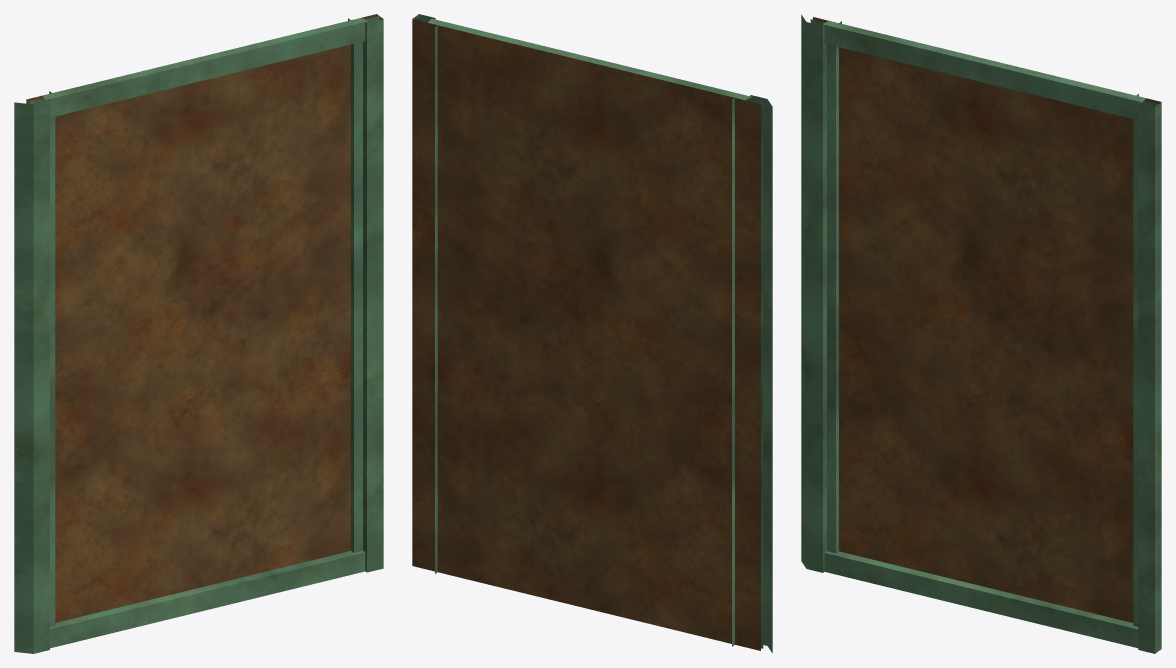
File: Wall1_UpperDeck_Corner1.FBX
3 views of the same model, side by side, from view 1: azimuth 30°, elevation 25°; view 2: azimuth 150°, elevation 25°; view 3: azimuth 330°, elevation 25° (orthographic).
Parts seen in each view (by area): view 1: Object017; view 2: Object017; view 3: Object017.
Boxes of the visible parts, x1,y1,x2,y2 form: Object017: (14, 14, 383, 653); Object017: (412, 14, 772, 653); Object017: (801, 14, 1161, 653).
Size of the model in its own units: 207 by 300 by 9.68.
